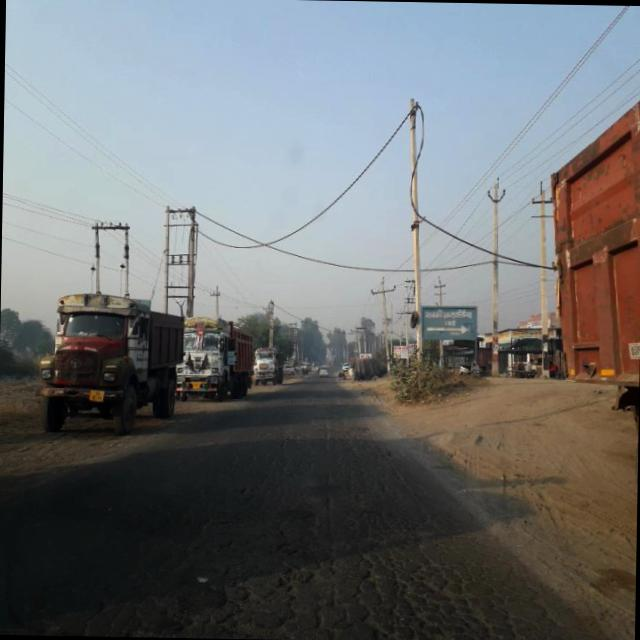crack: (8, 445, 540, 639)
